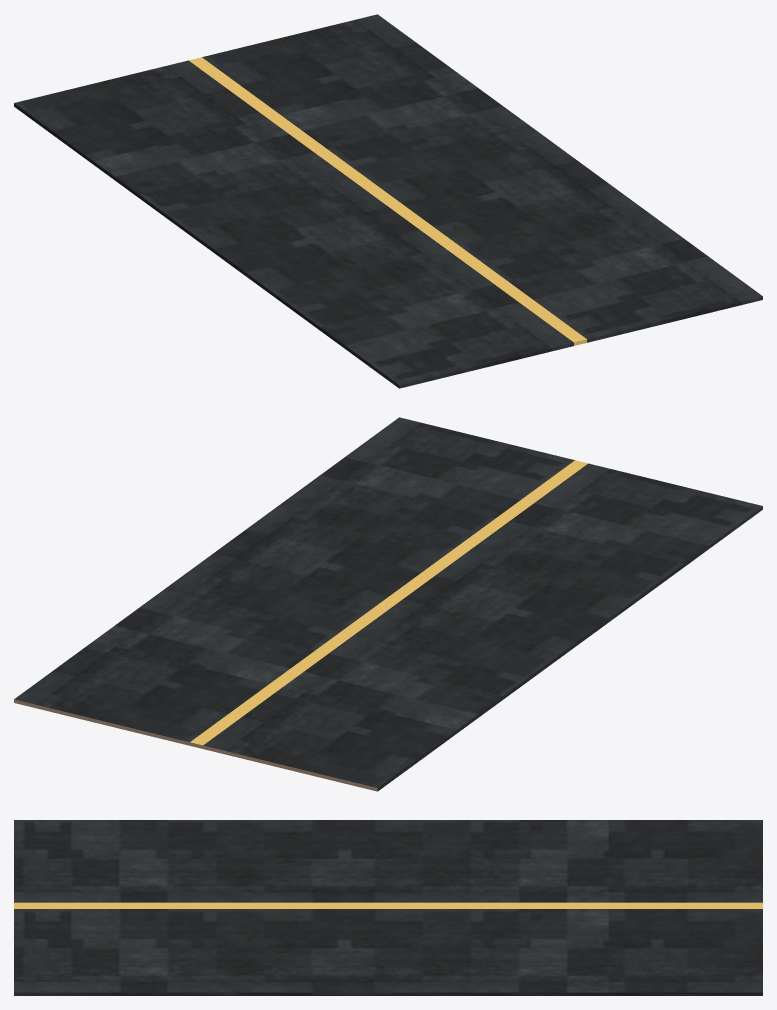
3 renders of one model, top to bottom at view 1: azimuth 30°, elevation 25°; view 2: azimuth 150°, elevation 25°; view 3: azimuth 270°, elevation 25°, orthographic. The views are drawn at different scales.
Visible parts, largest first — view 1: Box016; view 2: Box016; view 3: Box016.
Part boxes in pixels (<box>): Box016: <box>14,14,762,388</box>; Box016: <box>14,417,762,791</box>; Box016: <box>14,820,762,995</box>.
Bounding box in the file's own units: 0.0556 × 0.000523 × 0.1019.
Materials: 3 (1 with a texture image).
